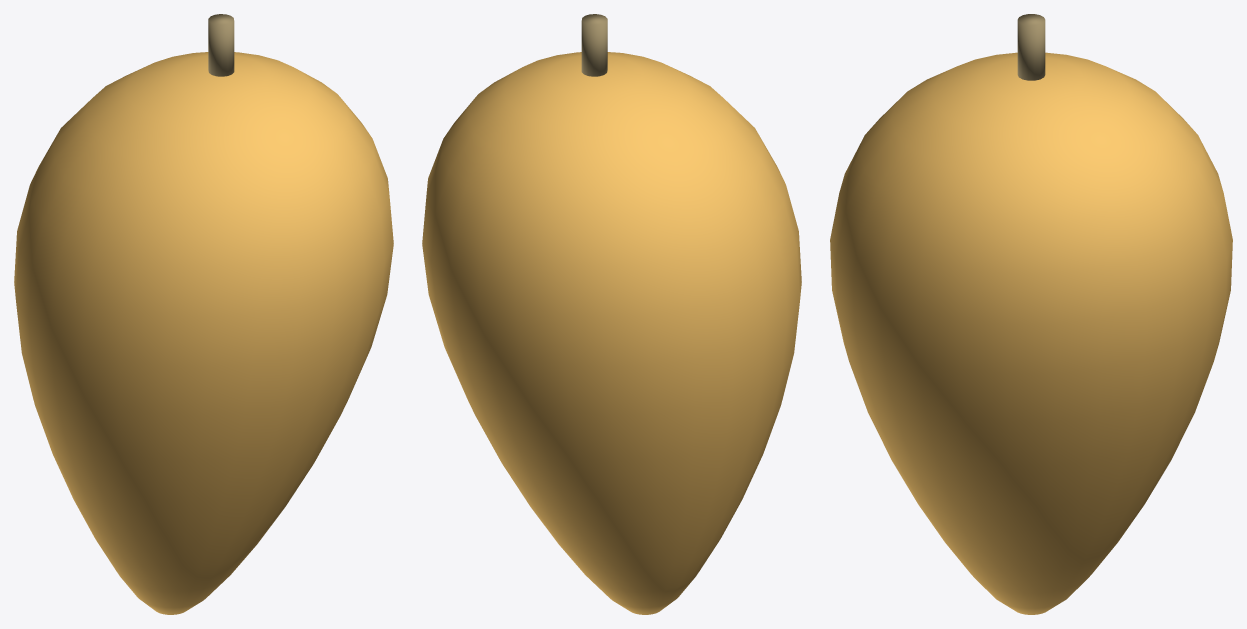
Rendered from Mango.glb.
3 views of the same model, side by side, from view 1: azimuth 30°, elevation 25°; view 2: azimuth 150°, elevation 25°; view 3: azimuth 270°, elevation 25° (orthographic). The views are drawn at different scales.
Visible parts, largest first — view 1: Mango; view 2: Mango; view 3: Mango.
Boxes of the visible parts, left/top/right/bottom form: Mango: left=14, top=14, right=393, bottom=614; Mango: left=422, top=14, right=801, bottom=614; Mango: left=830, top=14, right=1232, bottom=614.
Size of the model in its own units: 0.6418 by 1.09 by 0.6402.
